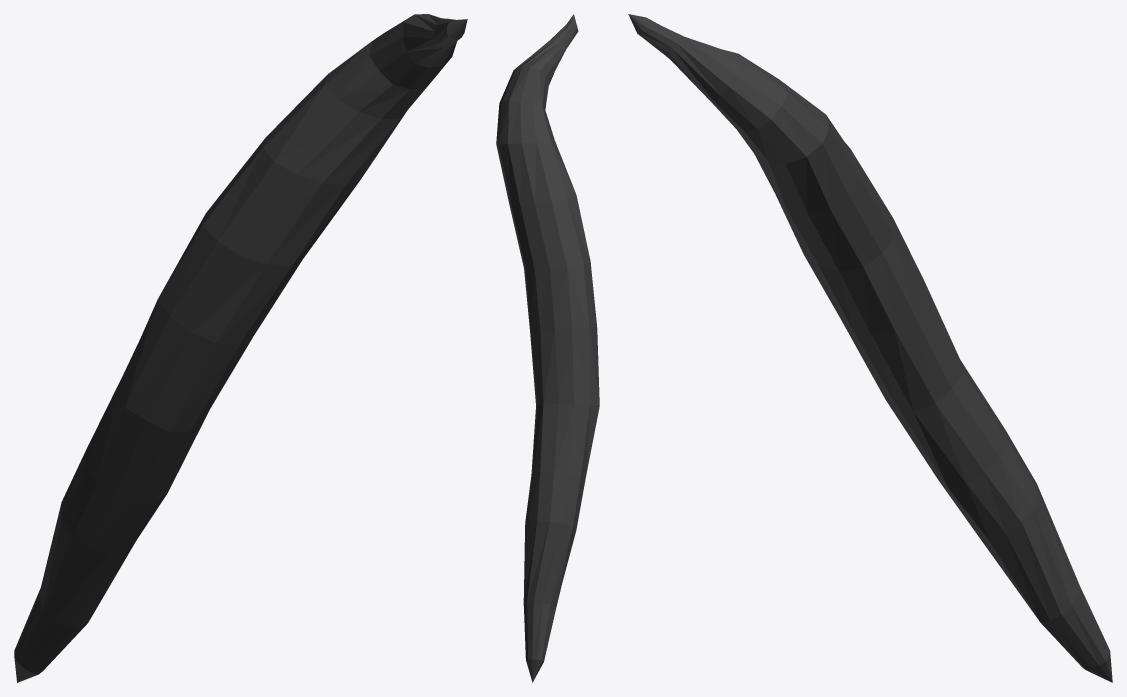
The model's file is LatDigFlexo.glb.
3 views of the same model, side by side, from view 1: azimuth 30°, elevation 25°; view 2: azimuth 150°, elevation 25°; view 3: azimuth 270°, elevation 25° (orthographic). The views are drawn at different scales.
Parts seen in each view (by area): view 1: LatDigFlexo; view 2: LatDigFlexo; view 3: LatDigFlexo.
Part boxes in pixels (bbox=[...]): LatDigFlexo: bbox=[14, 14, 467, 682]; LatDigFlexo: bbox=[496, 14, 599, 682]; LatDigFlexo: bbox=[628, 14, 1112, 682].
Bounding box in the file's own units: 1.59 × 5.03 × 2.92.
1 material, 1 textured.
